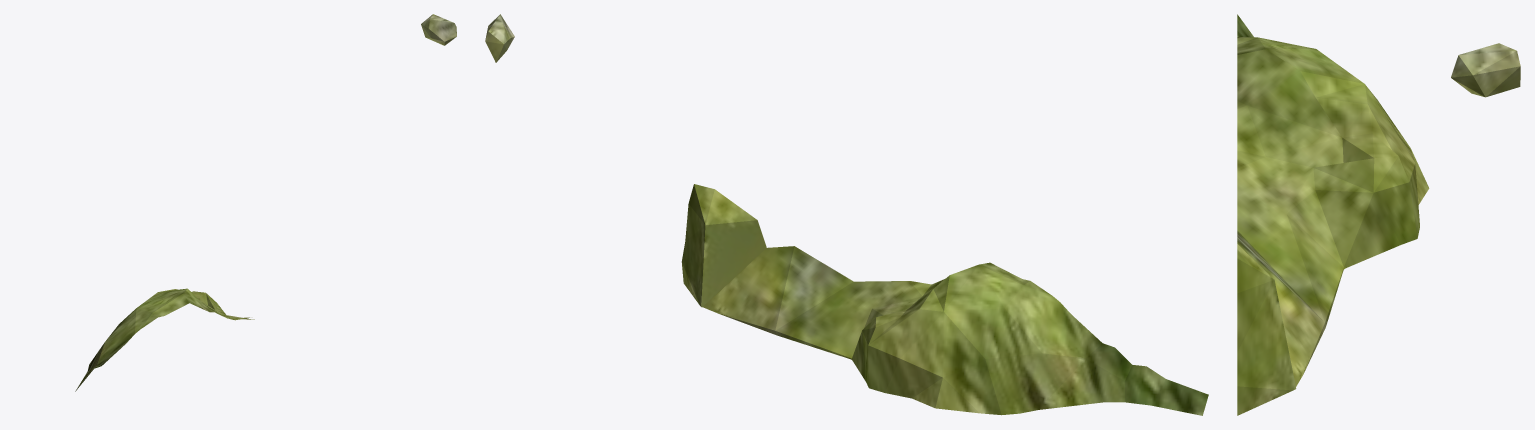
3 views of the same model, side by side, from view 1: azimuth 30°, elevation 25°; view 2: azimuth 150°, elevation 25°; view 3: azimuth 270°, elevation 25° (orthographic). The views are drawn at different scales.
Size of the model in its own units: 2.94 by 1.31 by 0.7649.
1 material, 1 textured.
